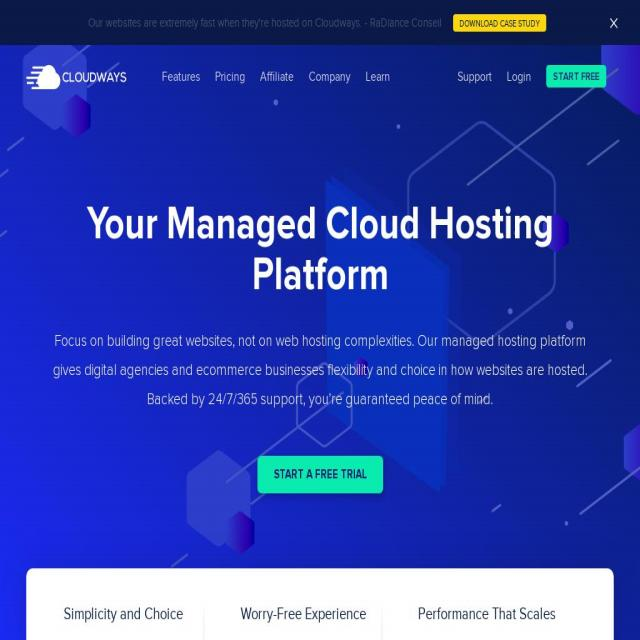login-option: (504, 63, 534, 90)
navigation-links: (151, 60, 630, 93)
